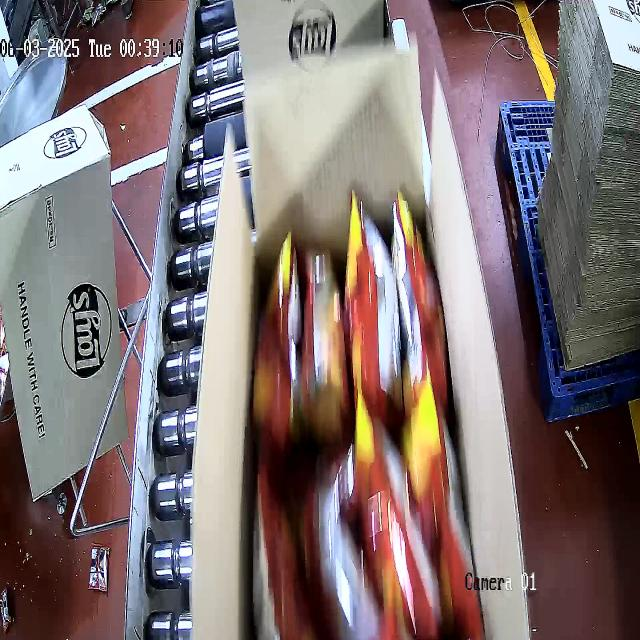MASALA: (250, 186, 485, 638)
